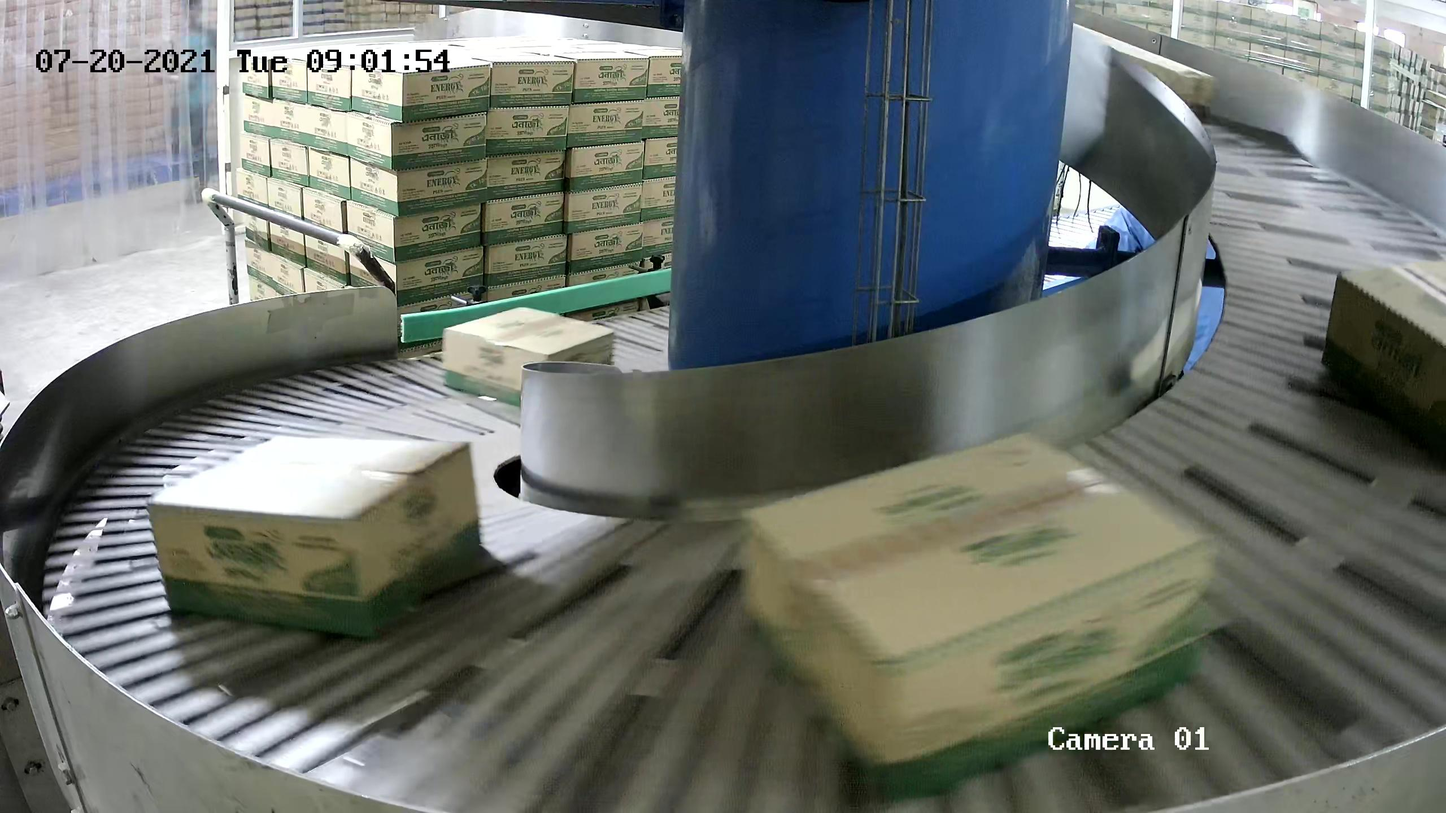Box: (735, 427, 1223, 797), (146, 432, 483, 643), (1318, 259, 1446, 466), (441, 306, 616, 408)
